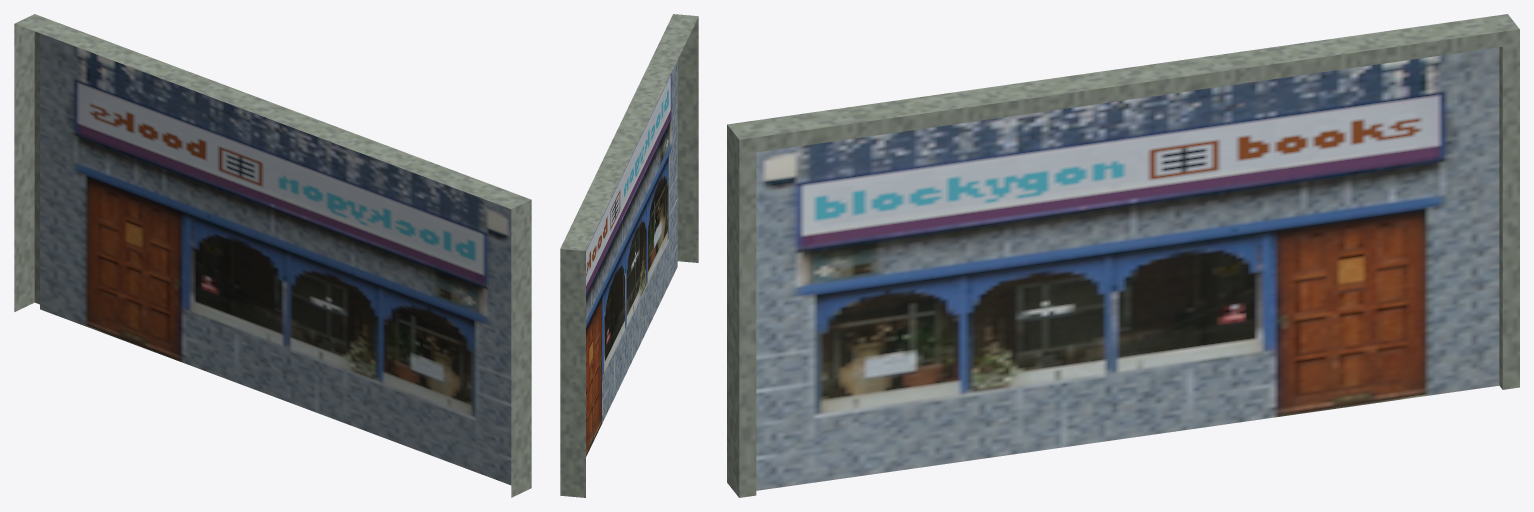
Rendered from BGN_STORE FRONT 2.fbx.
3 views of the same model, side by side, from view 1: azimuth 30°, elevation 25°; view 2: azimuth 150°, elevation 25°; view 3: azimuth 270°, elevation 25° (orthographic). The views are drawn at different scales.
Visible parts, largest first — view 1: BGN_STORE_FRONT_2; view 2: BGN_STORE_FRONT_2; view 3: BGN_STORE_FRONT_2.
Part boxes in pixels (left/top/right/bottom): BGN_STORE_FRONT_2: left=14, top=14, right=531, bottom=497; BGN_STORE_FRONT_2: left=560, top=14, right=698, bottom=497; BGN_STORE_FRONT_2: left=727, top=14, right=1519, bottom=497.
Size of the model in its own units: 331 by 439 by 881.
Materials: 2 (2 with a texture image).
